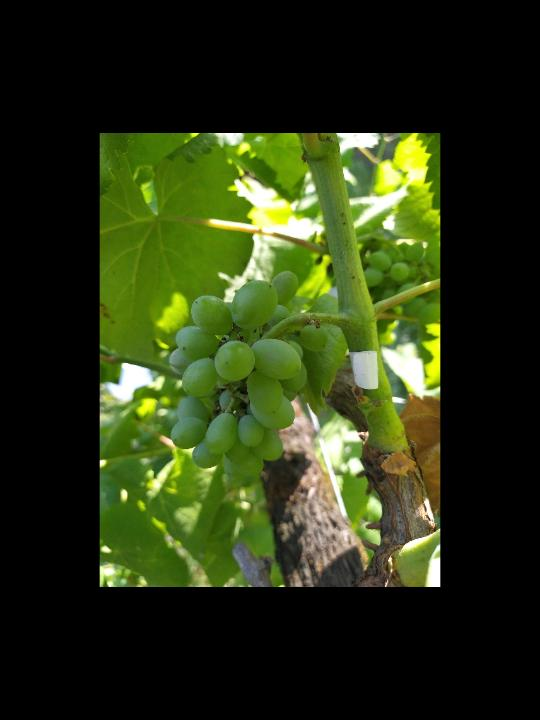grape: (168, 268, 328, 482)
